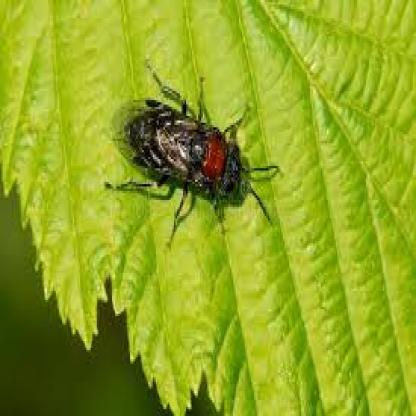sawfly: (103, 52, 280, 233)
